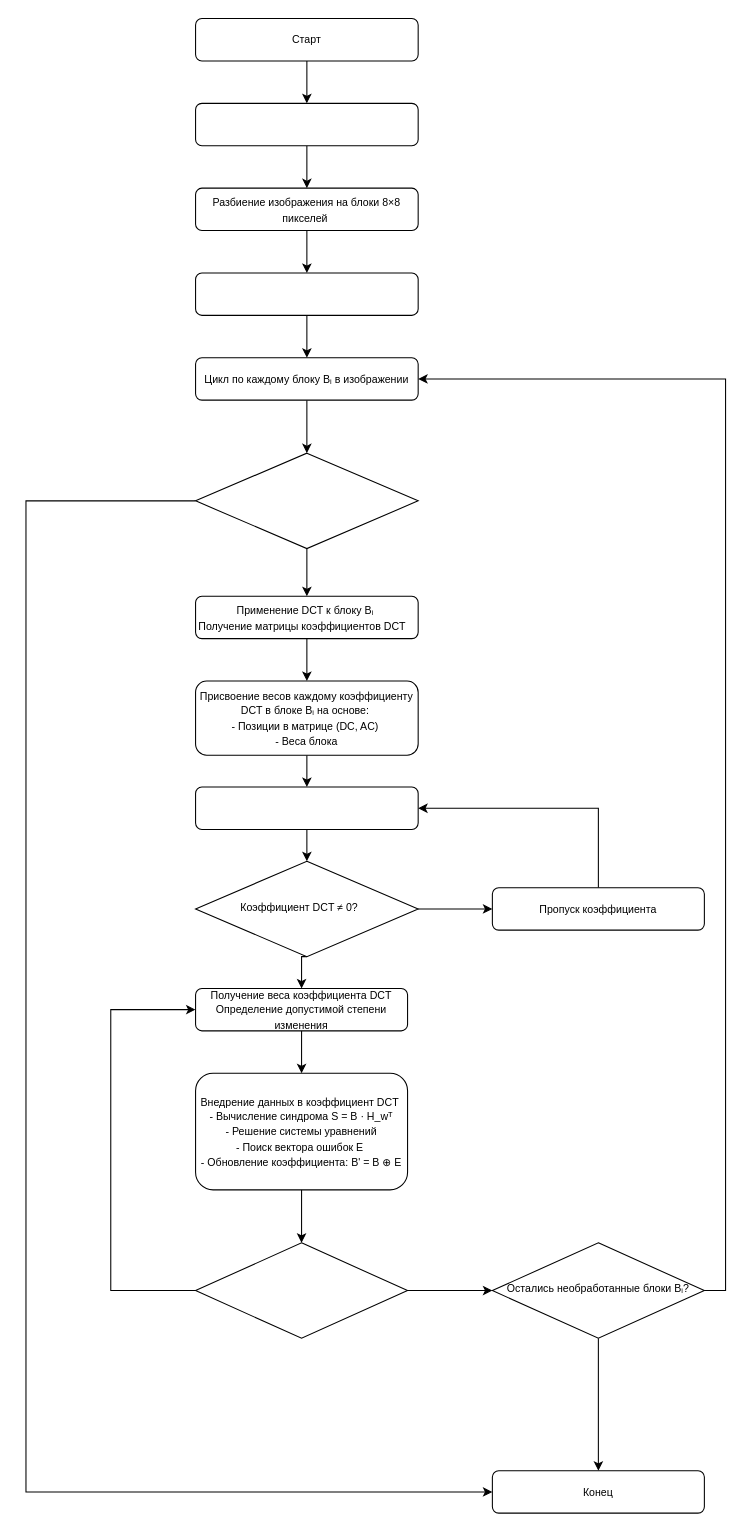
The diagram is 753 pixels wide and 1532 high, and some of its shapes have lost their labels. The shapes that lost their labels are listed below. From the top down, each one's centre as x and y in pixels, then its label:
At point (306, 124): "Получение исходного изображения JPEG".
At point (306, 293): "Присвоение весов каждому блоку Bᵢ на основе: Градиента области, содержащей блок".
At point (306, 500): "Остались ли данные для внедрения?".
At point (306, 807): "Цикл по каждому коэффициенту DCT в блоке Bᵢ".
At point (301, 1290): "Остались необработанные коэффициенты DCT?".
